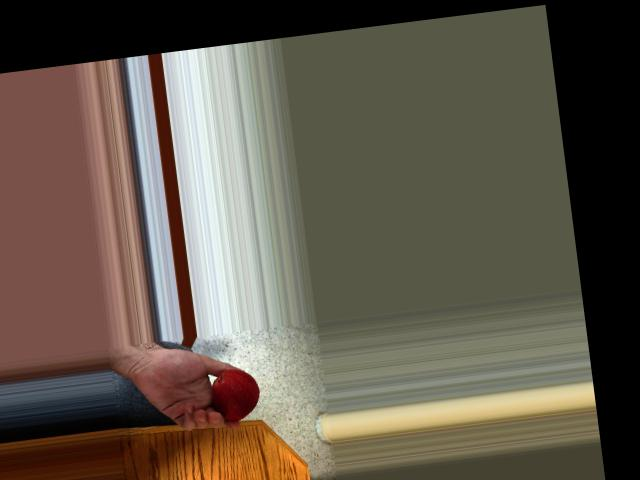apple: (208, 366, 265, 421)
